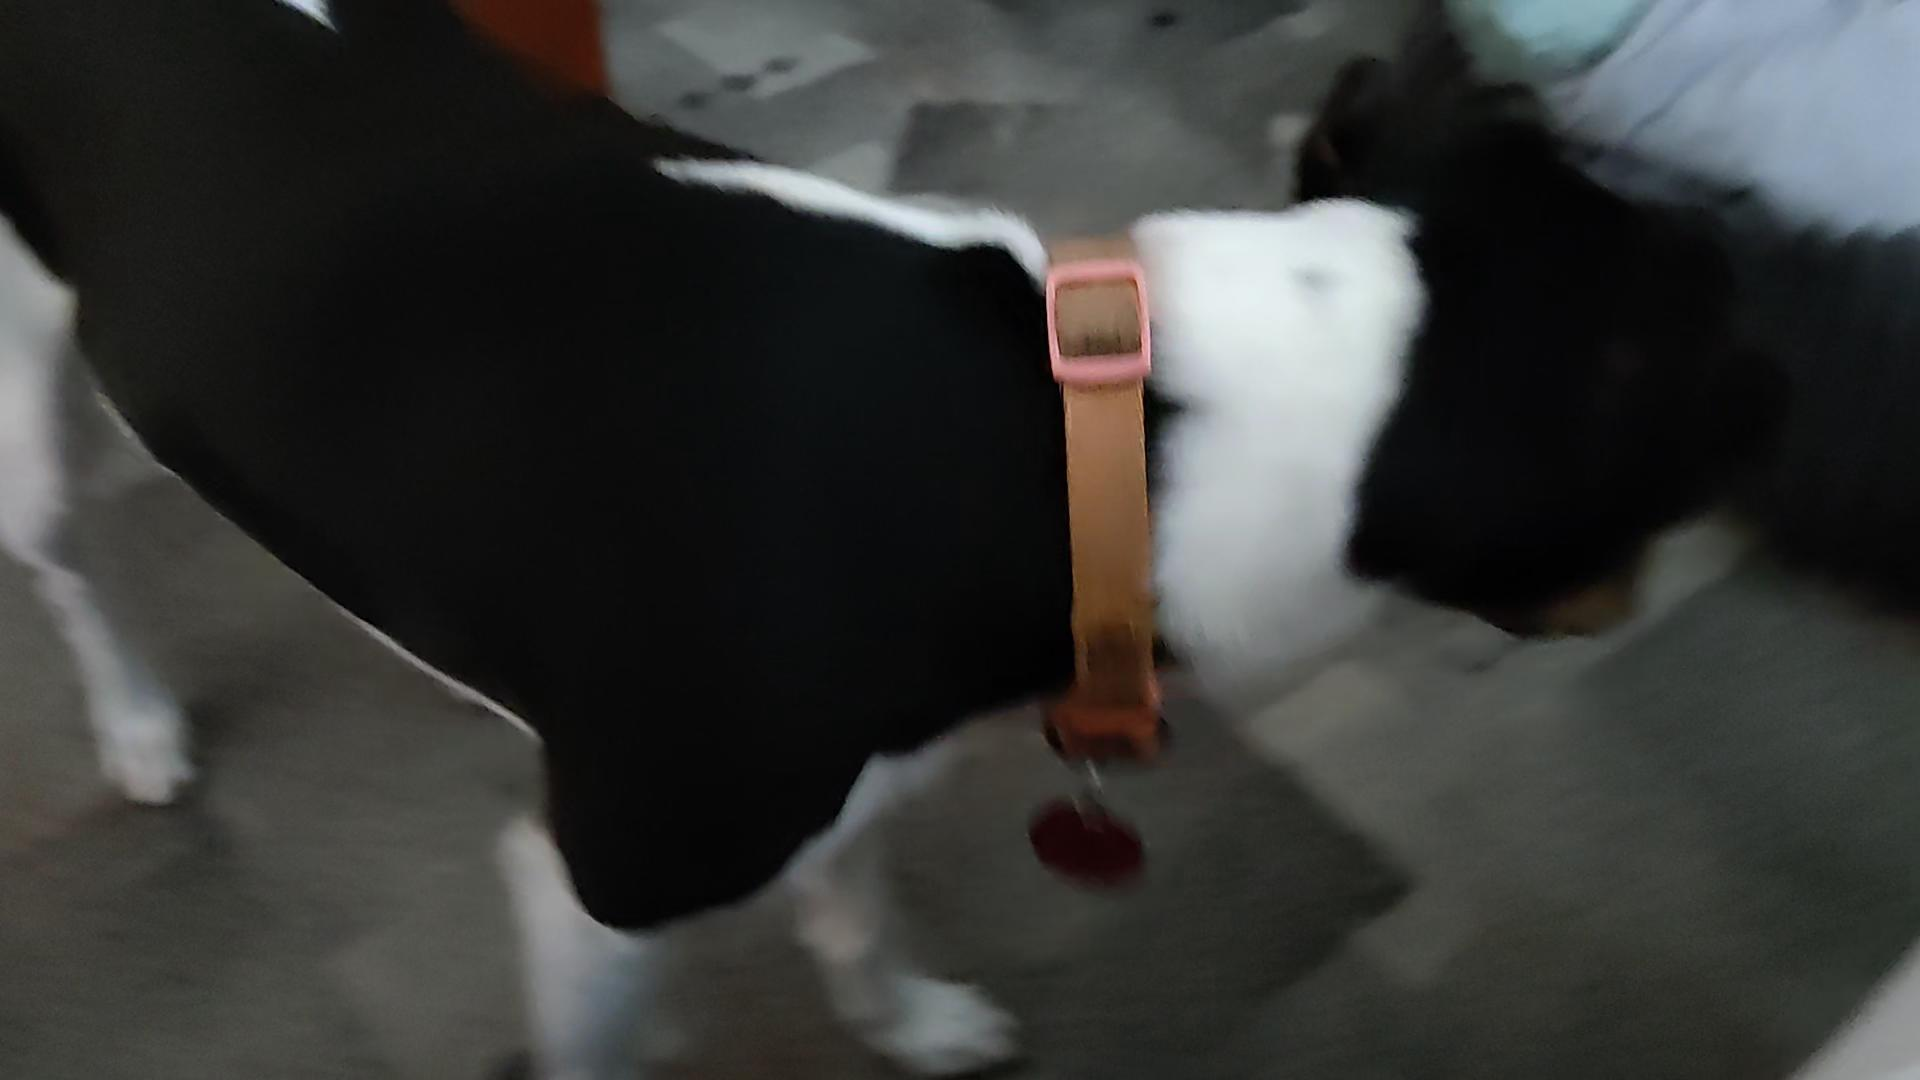Dog: (0, 0, 1789, 1079)
